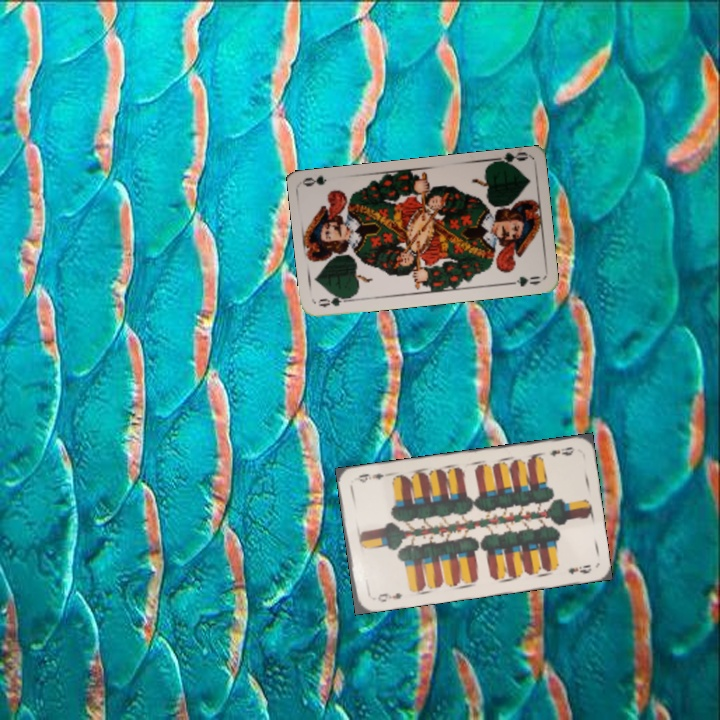E9: (373, 588, 405, 605), (546, 443, 577, 459)
GO: (489, 149, 529, 170), (314, 291, 355, 309)
